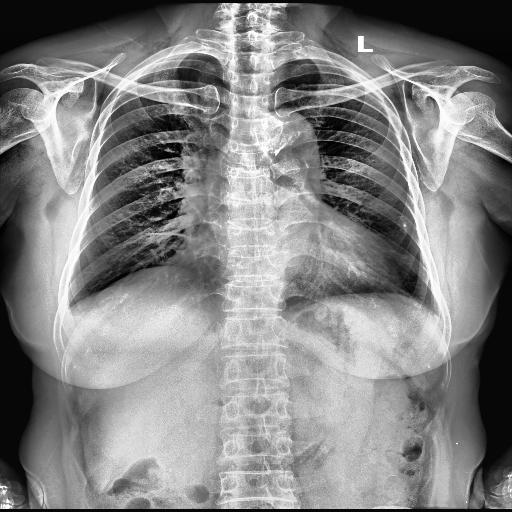0- Aortic enlargement: (252, 106, 324, 172), (255, 106, 320, 168), (254, 109, 318, 166)
13- Pulmonary fibrosis: (144, 230, 192, 240), (146, 230, 189, 238), (398, 213, 406, 235)
2- Calcification: (400, 215, 408, 235)
3- Cardiomegaly: (181, 226, 395, 294), (194, 222, 398, 292), (184, 242, 400, 292)
9- Other lesion: (398, 213, 406, 235), (400, 215, 408, 235)
